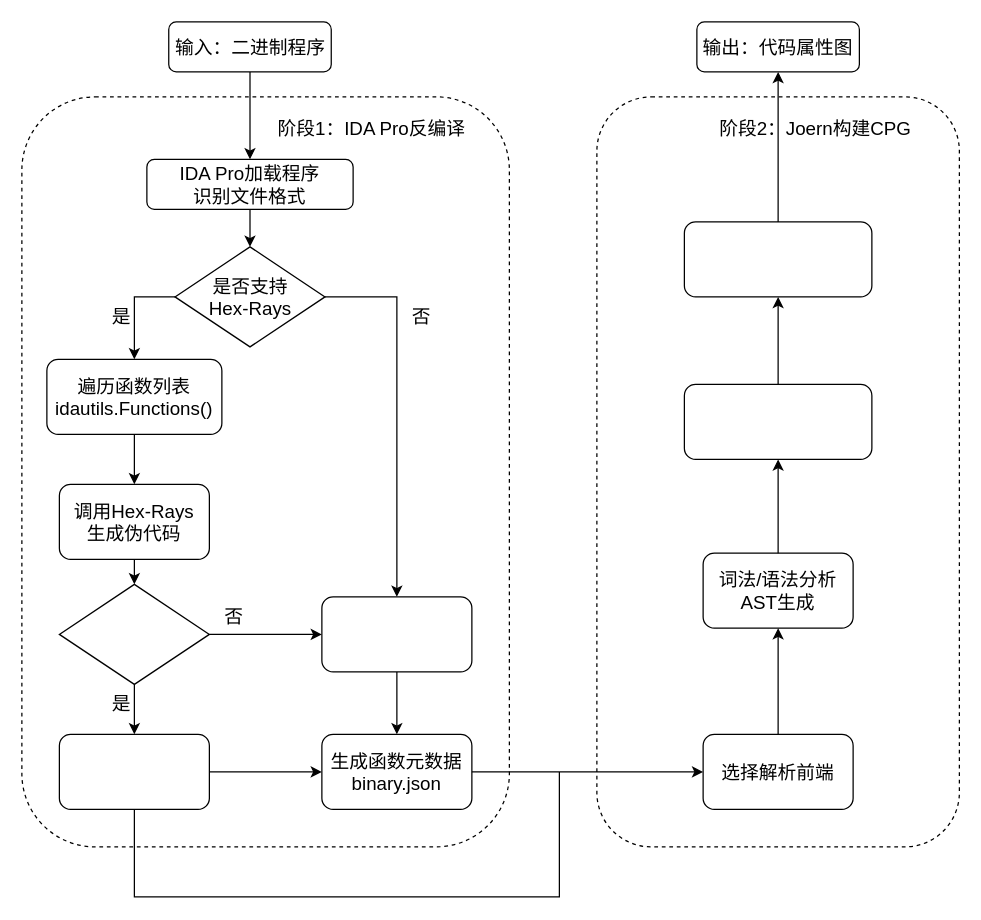
Some shapes in this 981 by 920 pixel diagram are drawn without their labels. The shapes that lost their labels are listed below. From the top down, each one's centre as x and y in pixels, then its label:
At point 777,259: "持久化CPG workspace/cpg.bin".
At point 777,421: "多层次分析Pass CFG + DFG + CG等".
At point 133,633: "反编译 是否成功?".
At point 396,634: "记录失败信息".
At point 133,771: "保存伪代码文件 func_<addr>.c".
